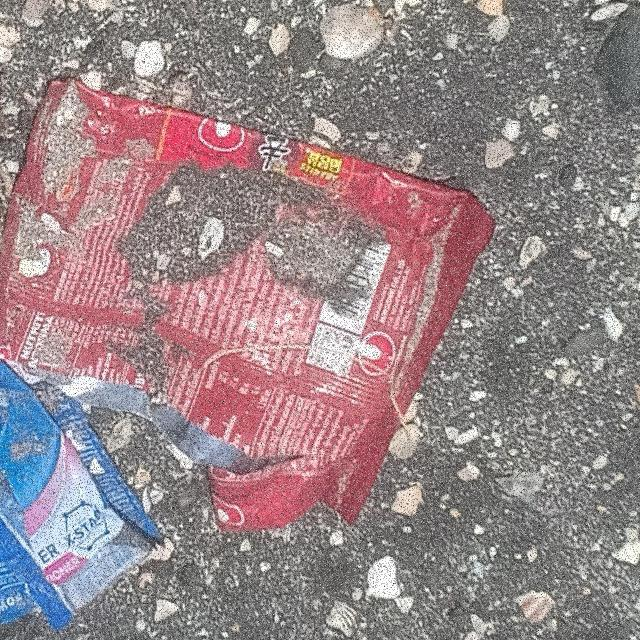plastic_waste: (1, 73, 499, 537), (1, 361, 168, 636)
